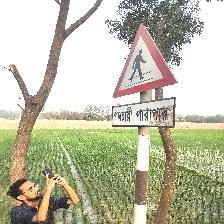Pedestrian-crossing: (111, 23, 179, 130)
